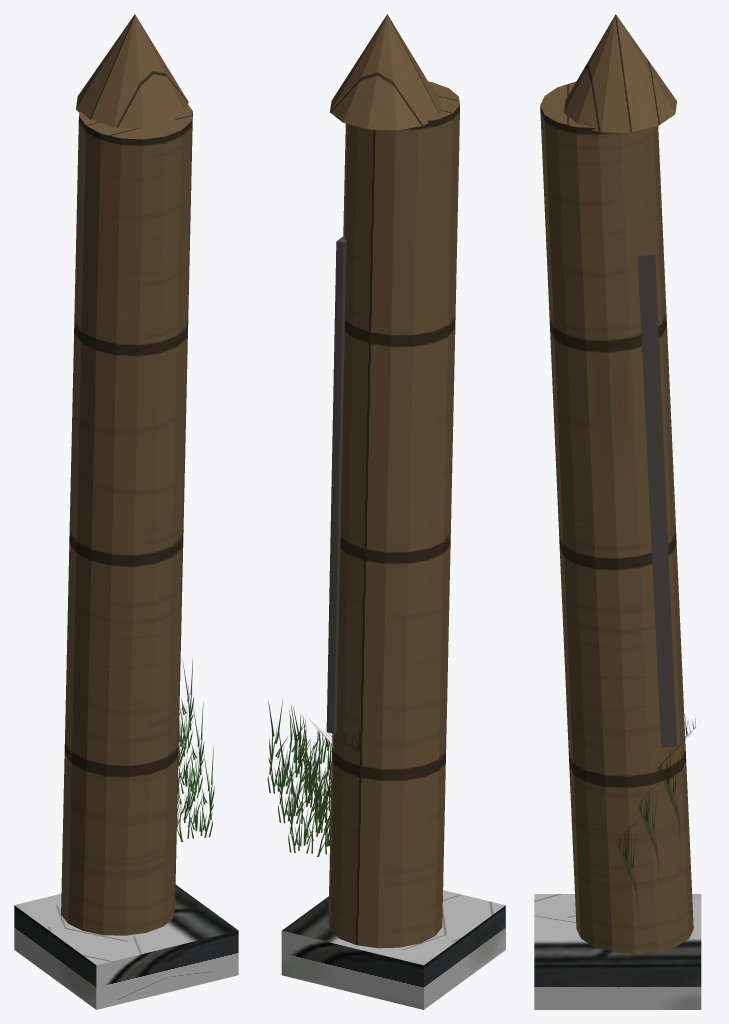
The model's file is mieu-hoang-cot-go-nut.glb.
3 renders of one model, left to right at view 1: azimuth 30°, elevation 25°; view 2: azimuth 150°, elevation 25°; view 3: azimuth 270°, elevation 25°, orthographic.
Parts seen in each view (by area): view 1: mieu-hoang-cot-go-nut; view 2: mieu-hoang-cot-go-nut; view 3: mieu-hoang-cot-go-nut.
Part boxes in pixels (x1,y1,x2,y2): mieu-hoang-cot-go-nut: (14, 14, 238, 1009); mieu-hoang-cot-go-nut: (267, 14, 505, 1009); mieu-hoang-cot-go-nut: (534, 14, 701, 1009).
Size of the model in its own units: 0.47 by 2.55 by 0.4317.
Materials: 4 (3 with a texture image).
